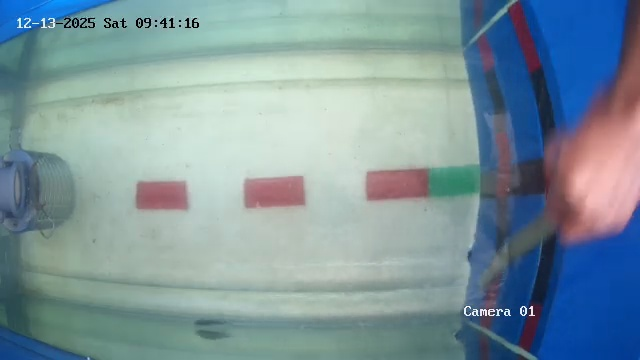fish: (189, 315, 233, 333)
